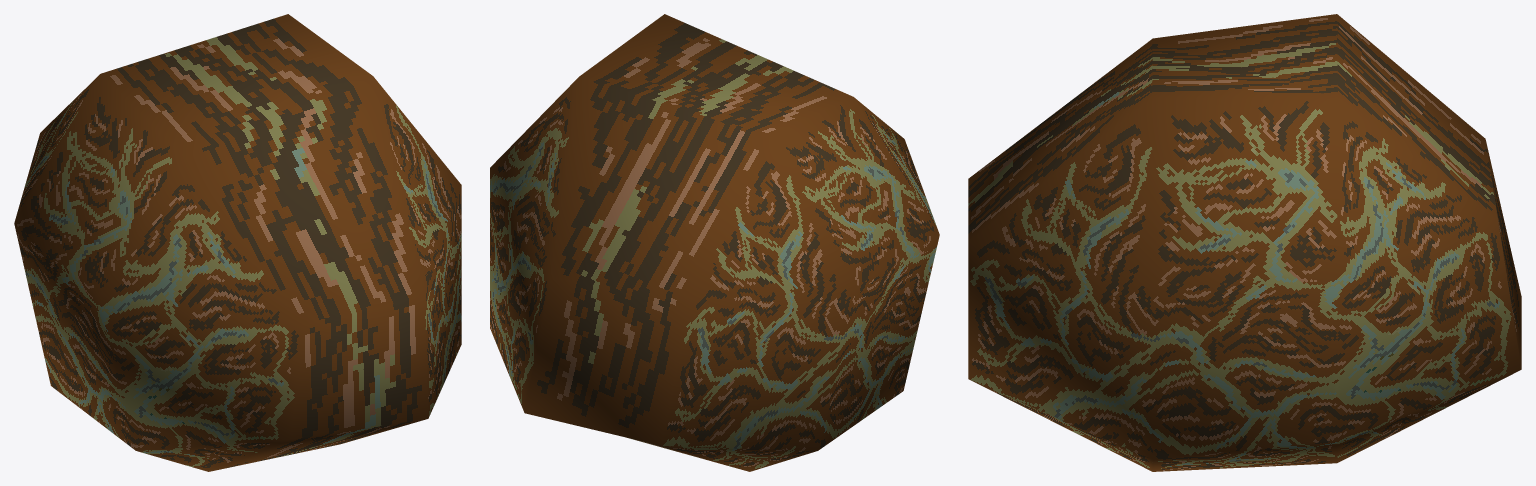
File: meat.glb
The picture shows the model from 3 angles, left to right: view 1: azimuth 30°, elevation 25°; view 2: azimuth 150°, elevation 25°; view 3: azimuth 270°, elevation 25°; orthographic projection. The views are drawn at different scales.
Visible parts, largest first — view 1: meat; view 2: meat; view 3: meat.
Part boxes in pixels (box(x1,y1,x2,y2)): meat: box(14, 14, 461, 471); meat: box(490, 14, 939, 471); meat: box(968, 14, 1521, 471).
Bounding box in the file's own units: 0.4273 × 0.4056 × 0.5201.
Materials: 1 (1 with a texture image).
